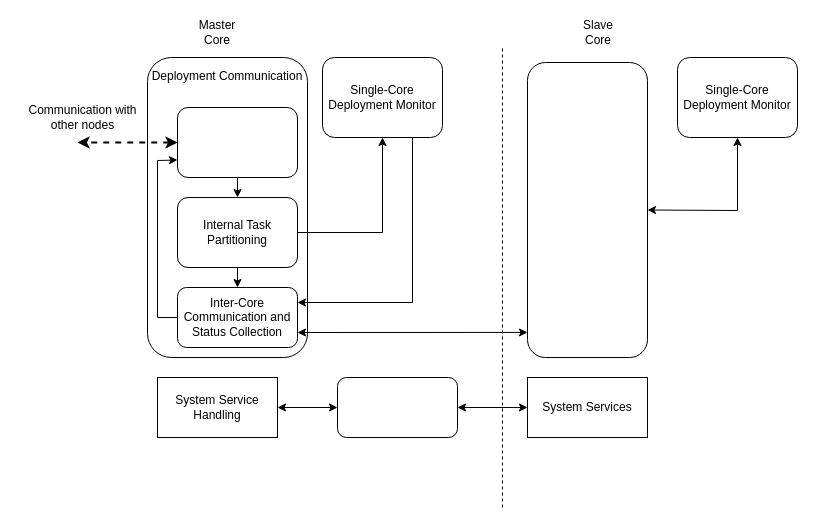
Some shapes in this 815 by 526 pixel diagram are drawn without their labels. The box of each missing label's shape, as (x1, y1, x2, y2) in pixels:
External Communication: (176, 106, 298, 178)
Inter-Core Communication: (526, 62, 648, 358)
Inter-Core System Service Wrapper Interface: (336, 376, 458, 438)
